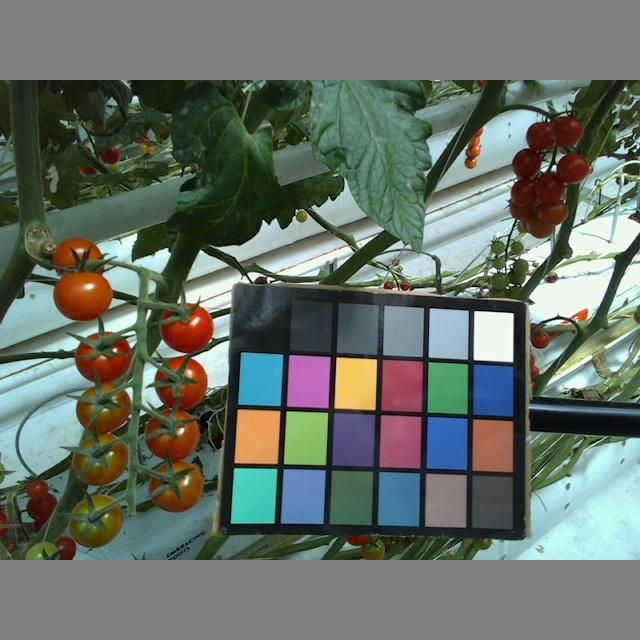green: (24, 542, 63, 560)
pink: (67, 492, 125, 545), (52, 271, 112, 319), (74, 434, 128, 487), (145, 410, 200, 461), (148, 462, 203, 512), (77, 385, 131, 433), (53, 238, 104, 288)
red: (73, 332, 133, 383), (154, 355, 209, 408), (159, 301, 215, 351), (23, 493, 59, 526), (551, 112, 583, 147), (523, 119, 558, 150), (555, 152, 589, 183), (510, 148, 543, 177), (537, 197, 570, 225), (535, 171, 564, 202), (526, 207, 555, 237), (510, 177, 539, 206), (25, 482, 49, 502)
